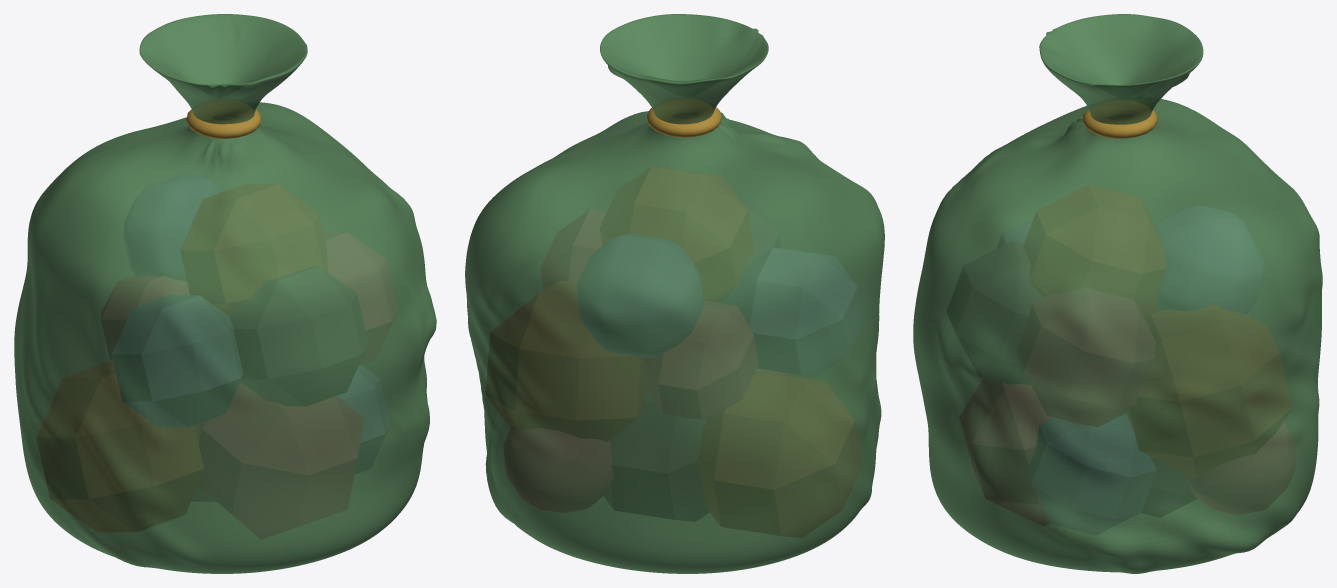
File: onegarbagebag.fbx
3 views of the same model, side by side, from view 1: azimuth 30°, elevation 25°; view 2: azimuth 150°, elevation 25°; view 3: azimuth 270°, elevation 25° (orthographic).
Visible parts, largest first — view 1: pCube17; view 2: pCube17; view 3: pCube17.
Boxes of the visible parts, left/top/right/bottom form: pCube17: left=14, top=14, right=436, bottom=573; pCube17: left=465, top=14, right=884, bottom=573; pCube17: left=913, top=14, right=1322, bottom=573.
Bounding box in the file's own units: 13.12 × 16.67 × 13.16.
